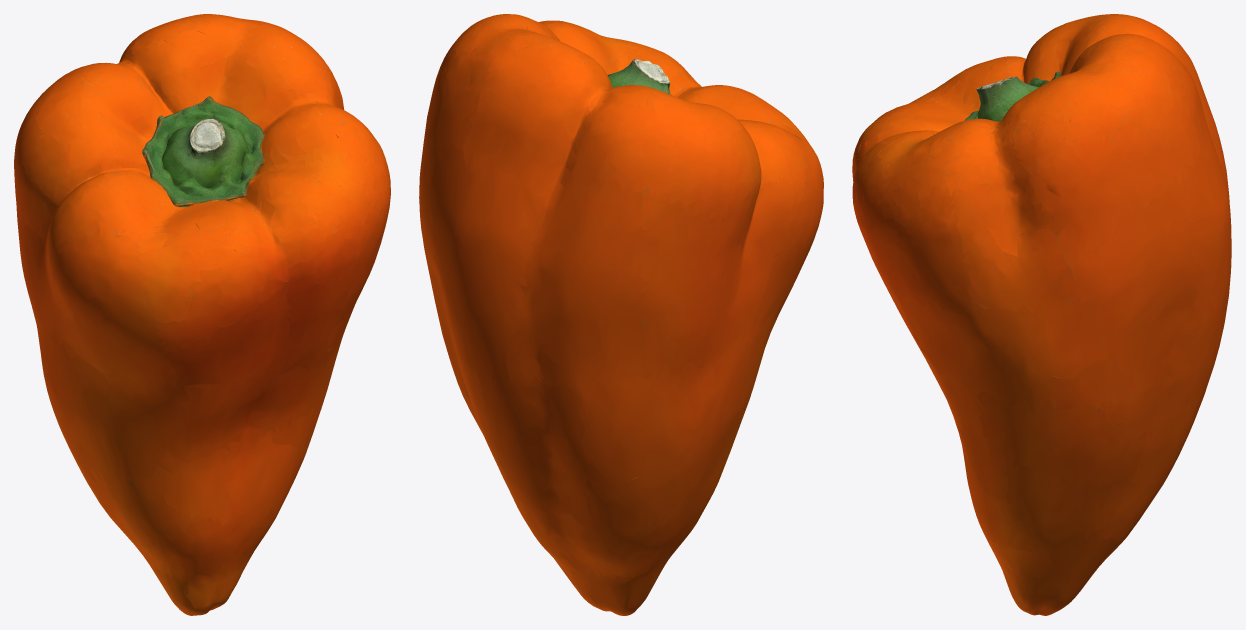
The model's file is kitchen-bell-pepper-01.glb.
3 views of the same model, side by side, from view 1: azimuth 30°, elevation 25°; view 2: azimuth 150°, elevation 25°; view 3: azimuth 270°, elevation 25° (orthographic). The views are drawn at different scales.
Parts seen in each view (by area): view 1: mesh_node; view 2: mesh_node; view 3: mesh_node.
Part boxes in pixels (<box>): mesh_node: <box>14,14,390,615</box>; mesh_node: <box>419,14,823,615</box>; mesh_node: <box>852,14,1231,615</box>.
Size of the model in its own units: 1.13 by 1.9 by 1.11.
1 material, 1 textured.
